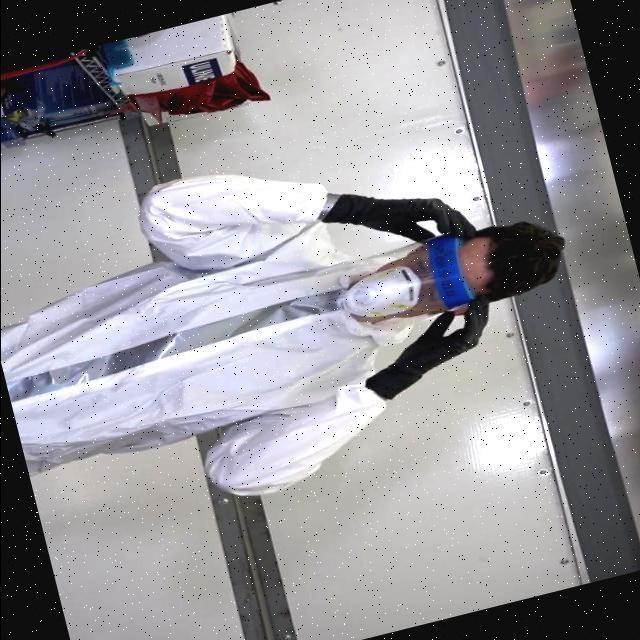apron: (381, 310, 494, 427), (342, 169, 457, 241)
